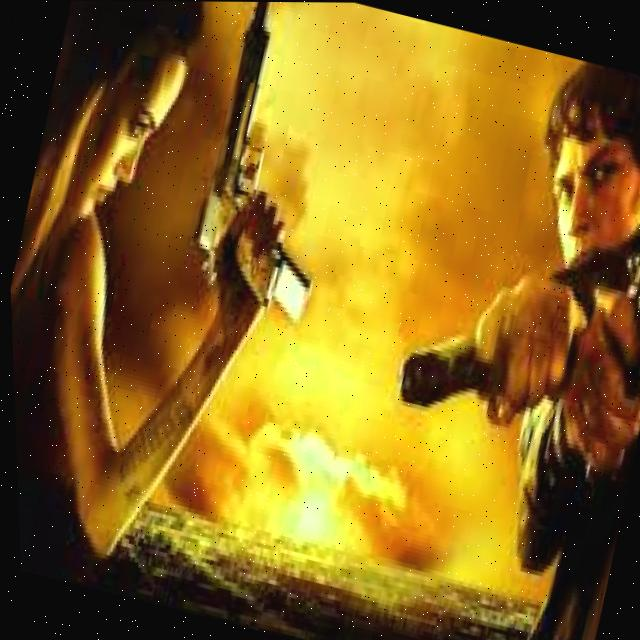pistol: (170, 1, 375, 328), (389, 317, 506, 424), (587, 219, 640, 401)
